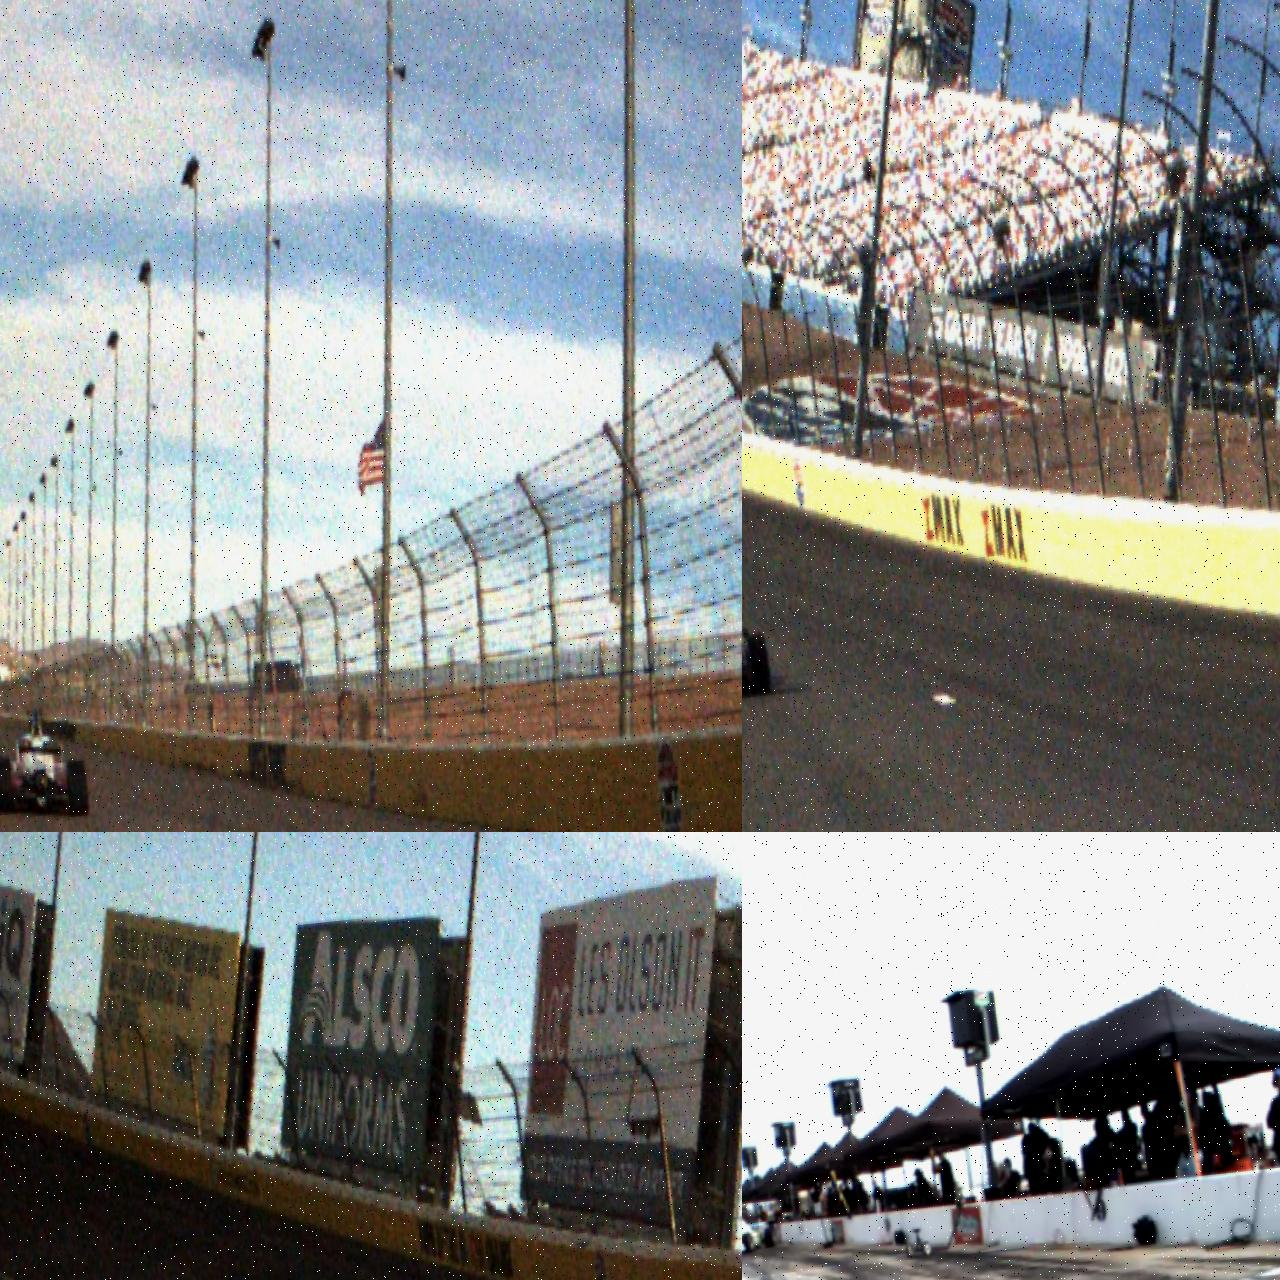AV: (0, 703, 91, 825), (742, 579, 772, 706), (742, 1212, 776, 1259)
Wheel: (748, 632, 772, 695), (67, 758, 91, 817), (0, 756, 16, 815), (764, 1228, 776, 1248), (742, 1232, 753, 1253)
